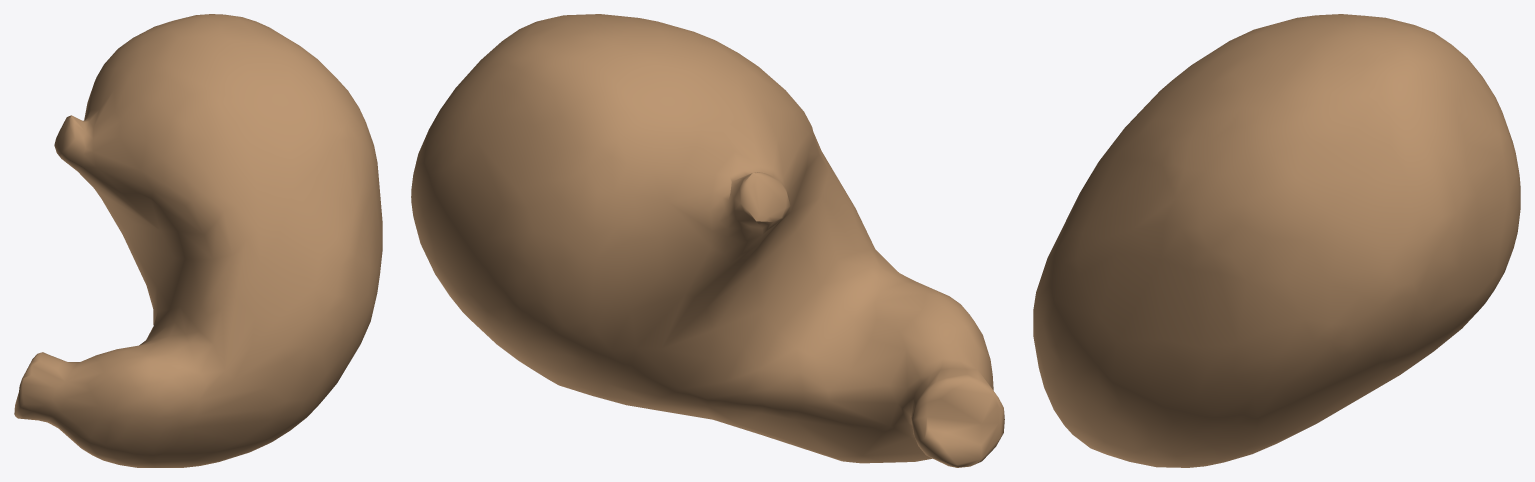
The model's file is stomach.glb.
The picture shows the model from 3 angles, left to right: view 1: azimuth 30°, elevation 25°; view 2: azimuth 150°, elevation 25°; view 3: azimuth 270°, elevation 25°; orthographic projection. The views are drawn at different scales.
Visible parts, largest first — view 1: stomach; view 2: stomach; view 3: stomach.
Part boxes in pixels (<box>): stomach: <box>14,14,382,467</box>; stomach: <box>411,14,1004,467</box>; stomach: <box>1033,14,1520,467</box>.
Size of the model in its own units: 0.1343 by 0.117 by 0.1129.
